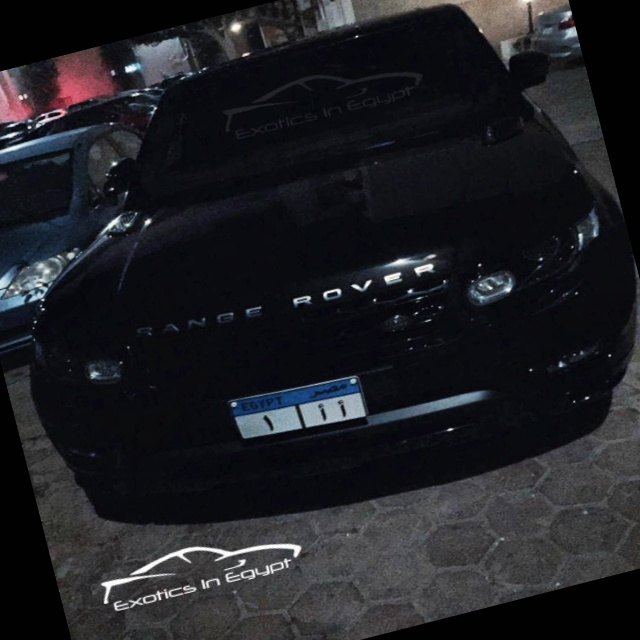License Plate: (225, 366, 371, 452)
